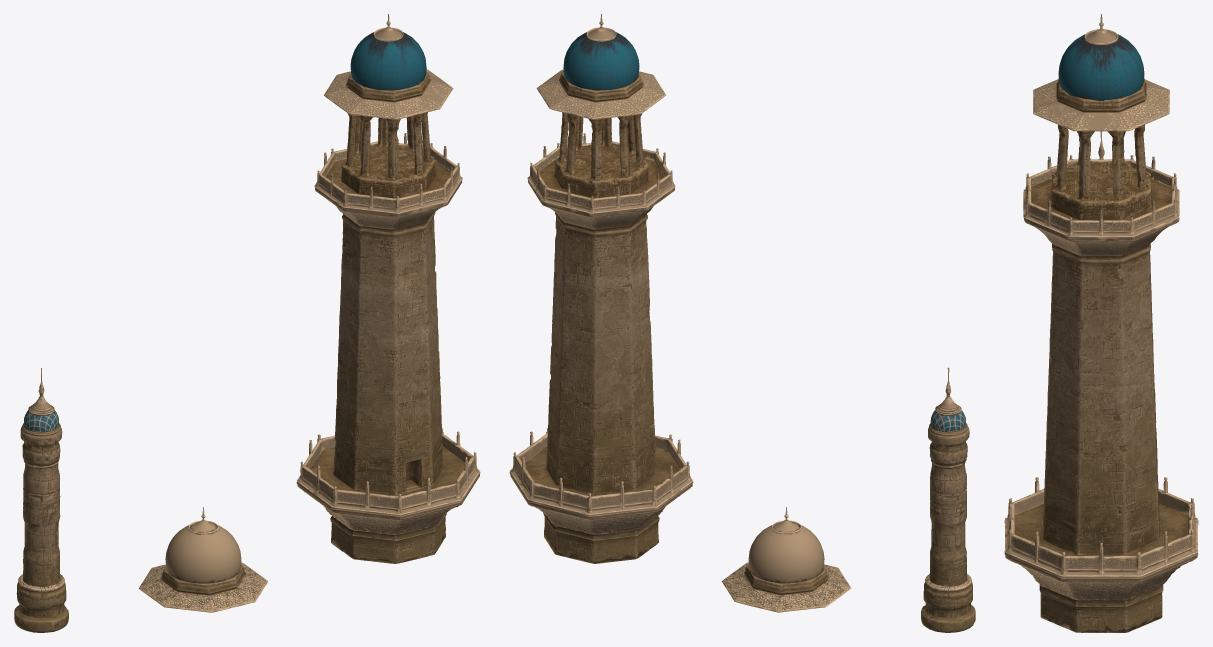
Rendered from desert__fortress__towers.glb.
3 views of the same model, side by side, from view 1: azimuth 30°, elevation 25°; view 2: azimuth 150°, elevation 25°; view 3: azimuth 270°, elevation 25° (orthographic). The views are drawn at different scales.
Parts seen in each view (by area): view 1: DesertTemple_Tower_Medium_01.001, DesertTemple_Pillar_Bulb_01, DesertTemple_Tower_Medium_01; view 2: DesertTemple_Tower_Medium_01.001, DesertTemple_Pillar_Bulb_01, DesertTemple_Tower_Medium_01; view 3: DesertTemple_Tower_Medium_01.001.
Boxes of the visible parts, bbox=[...] form: DesertTemple_Tower_Medium_01.001: bbox=[296, 14, 480, 563]; DesertTemple_Pillar_Bulb_01: bbox=[14, 368, 68, 632]; DesertTemple_Tower_Medium_01: bbox=[138, 507, 267, 612]; DesertTemple_Tower_Medium_01.001: bbox=[509, 14, 693, 563]; DesertTemple_Pillar_Bulb_01: bbox=[921, 367, 975, 632]; DesertTemple_Tower_Medium_01: bbox=[721, 507, 851, 612]; DesertTemple_Tower_Medium_01.001: bbox=[1004, 14, 1198, 632].
Size of the model in its own units: 19.24 by 21.76 by 6.44.
Materials: 3 (3 with a texture image).
